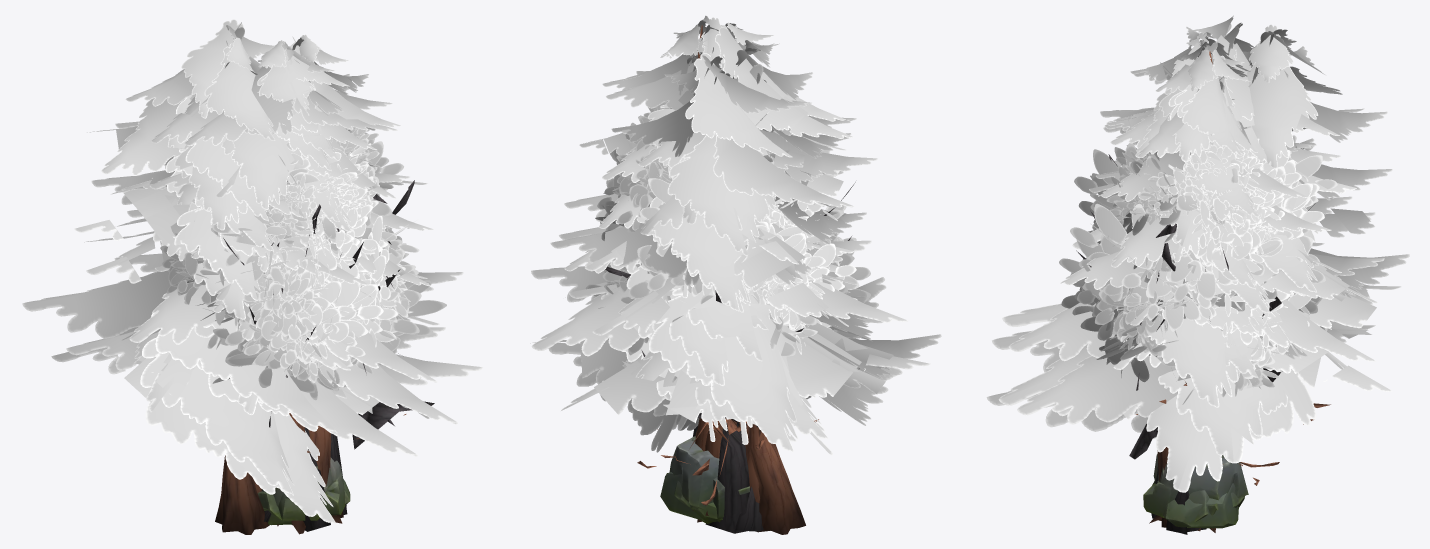
The model's file is natur.glb.
The picture shows the model from 3 angles, left to right: view 1: azimuth 30°, elevation 25°; view 2: azimuth 150°, elevation 25°; view 3: azimuth 270°, elevation 25°; orthographic projection. The views are drawn at different scales.
Parts seen in each view (by area): view 1: Pine_5, Pine_2, Pine_1, CommonTree_5, Pine_4, CommonTree_1, CommonTree_2, Pine_3, CommonTree_4, Rock_Medium_1, DeadTree_2, Rock_Medium_3 (+1 smaller); view 2: Pine_5, Pine_2, Pine_1, CommonTree_2, Pine_4, Pine_3, CommonTree_1, Rock_Medium_3, DeadTree_4, CommonTree_5, Rock_Medium_2, DeadTree_2 (+2 smaller); view 3: Pine_5, Pine_1, Pine_2, Pine_4, Pine_3, CommonTree_1, CommonTree_5, CommonTree_2, CommonTree_4, Rock_Medium_3, Rock_Medium_2, CommonTree_3 (+2 smaller).
Part boxes in pixels (x1,y1,x2,y2): Pine_5: (22,19,482,534); Pine_2: (84,37,445,495); Pine_1: (66,40,463,525); CommonTree_5: (203,128,419,534); Pine_4: (216,36,457,424); CommonTree_1: (197,139,446,400); CommonTree_2: (160,133,415,526); Pine_3: (155,34,433,517); CommonTree_4: (264,126,379,432); Rock_Medium_1: (257,466,345,520); DeadTree_2: (223,238,434,449); Rock_Medium_3: (321,457,345,515); Pine_5: (548,53,930,534); Pine_2: (530,40,941,502); Pine_1: (531,22,907,457); CommonTree_2: (585,126,870,515); Pine_4: (564,17,891,505); Pine_3: (564,15,838,468); CommonTree_1: (597,122,871,510); Rock_Medium_3: (666,436,749,522); DeadTree_4: (603,193,793,533); CommonTree_5: (632,115,859,334); Rock_Medium_2: (660,472,704,521); DeadTree_2: (641,182,855,531); Pine_5: (986,24,1409,492); Pine_1: (1008,26,1384,424); Pine_2: (992,15,1401,463); Pine_4: (1017,40,1375,467); Pine_3: (1060,42,1331,527); CommonTree_1: (1072,152,1325,532); CommonTree_5: (1059,135,1337,531); CommonTree_2: (1061,151,1324,378); CommonTree_4: (1110,141,1260,520); Rock_Medium_3: (1143,455,1248,517); Rock_Medium_2: (1157,480,1238,528); CommonTree_3: (1114,138,1301,376).
Size of the model in its own units: 8.13 by 10 by 8.32.
Materials: 8 (8 with a texture image).
